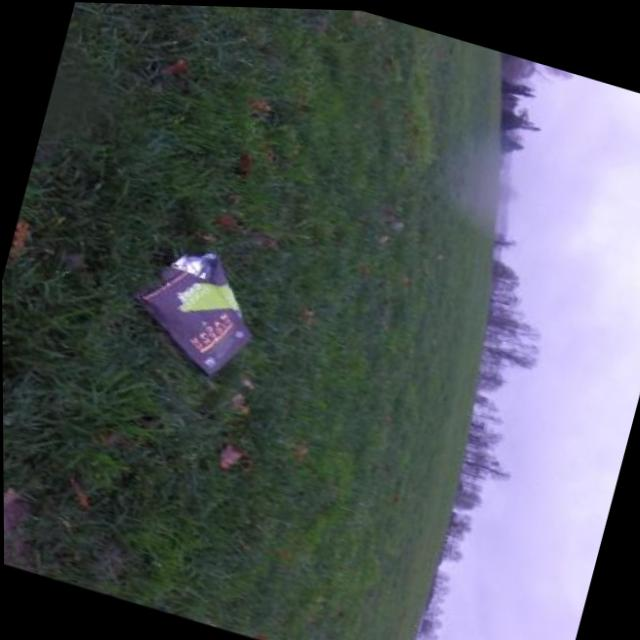other: (116, 233, 270, 387)
